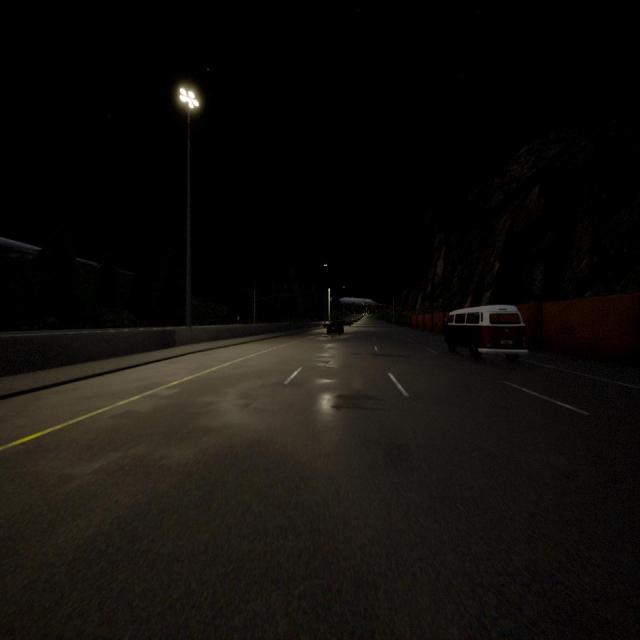Traffic_Signs: (236, 316, 240, 321)
Vehicle: (444, 305, 528, 360), (325, 319, 345, 336)
